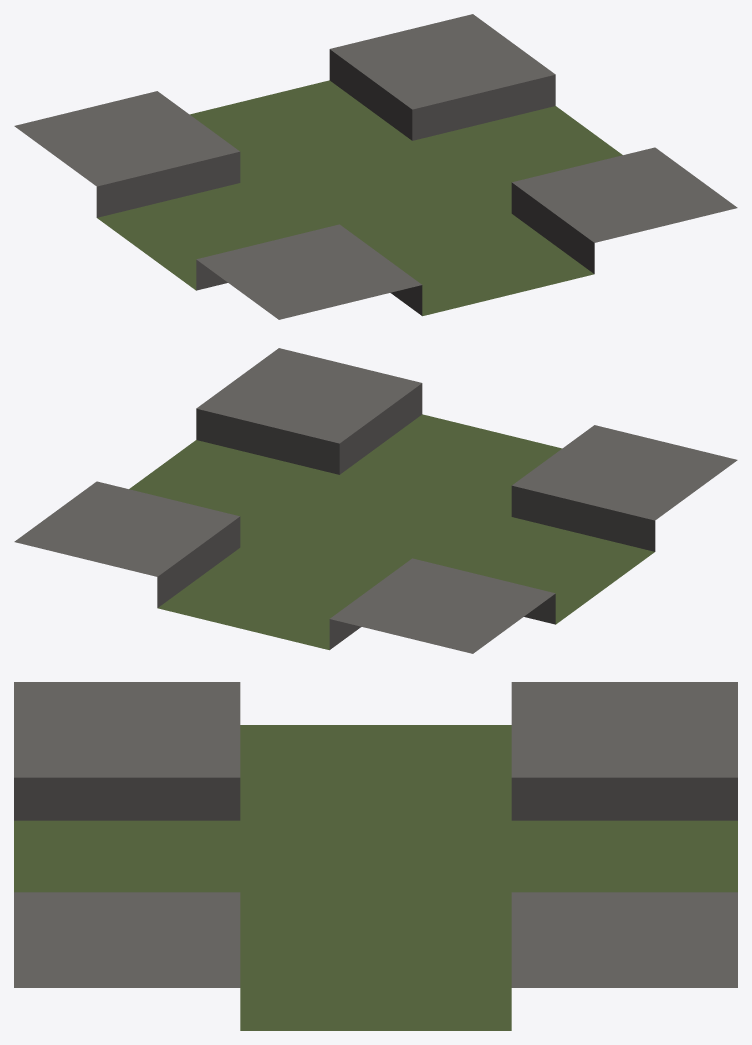
The model's file is AI_Env_Sewer_Floor_4Way.fbx.
The picture shows the model from 3 angles, top to bottom: view 1: azimuth 30°, elevation 25°; view 2: azimuth 150°, elevation 25°; view 3: azimuth 270°, elevation 25°; orthographic projection. The views are drawn at different scales.
Parts seen in each view (by area): view 1: AI_Env_Sewer_Floor_4Way; view 2: AI_Env_Sewer_Floor_4Way; view 3: AI_Env_Sewer_Floor_4Way.
Boxes of the visible parts, x1,y1,x2,y2 form: AI_Env_Sewer_Floor_4Way: (14, 14, 737, 319); AI_Env_Sewer_Floor_4Way: (14, 348, 737, 653); AI_Env_Sewer_Floor_4Way: (14, 682, 737, 1030).
Size of the model in its own units: 5 by 0.3261 by 5.
